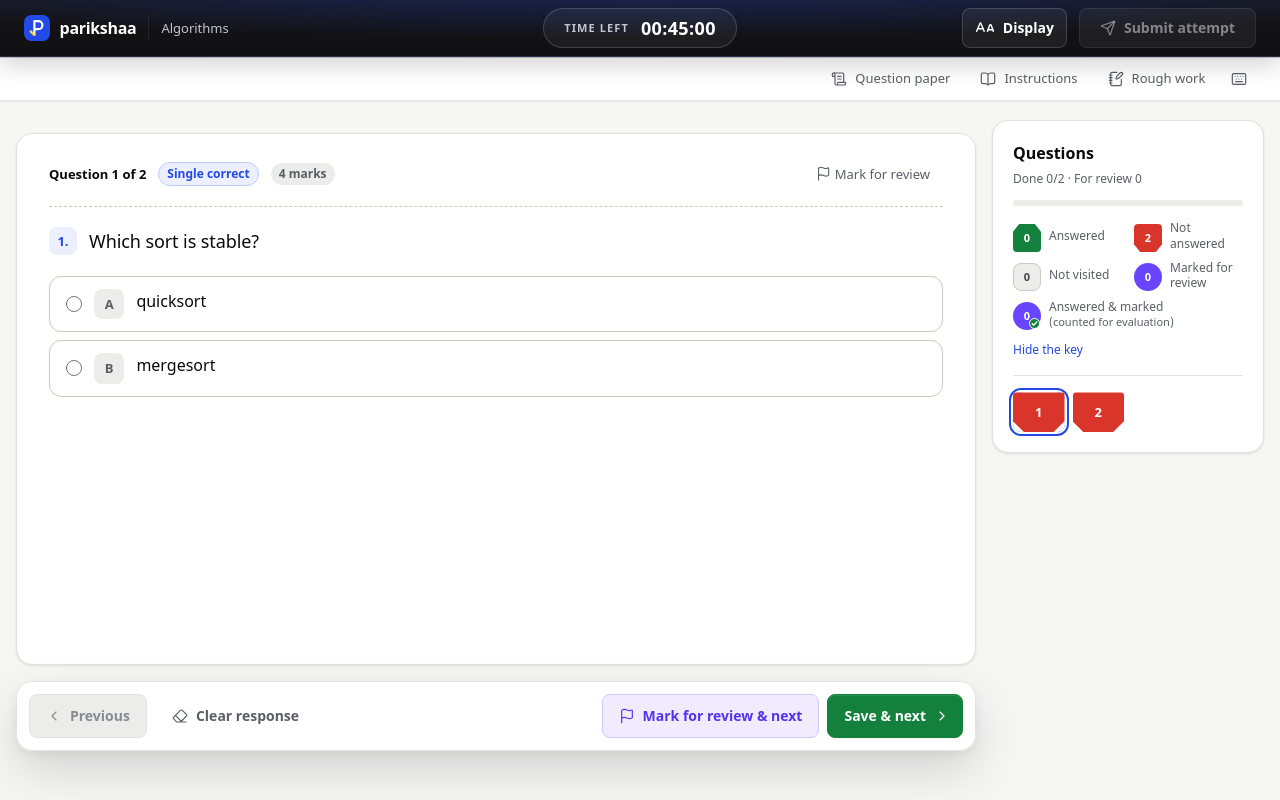
Test: App › shows the paper one question at a time, as a computer-based test does
Expected: the heading "Algorithms" is shown, left=161, top=20, right=229, bottom=36
Expected: the heading "1. Which sort is stable?" is shown, left=49, top=227, right=259, bottom=255
What coordinates should you click on to do the following:
click the button "Save & next"
I would click on:
 (895, 716)
Its box is left=827, top=694, right=963, bottom=738.
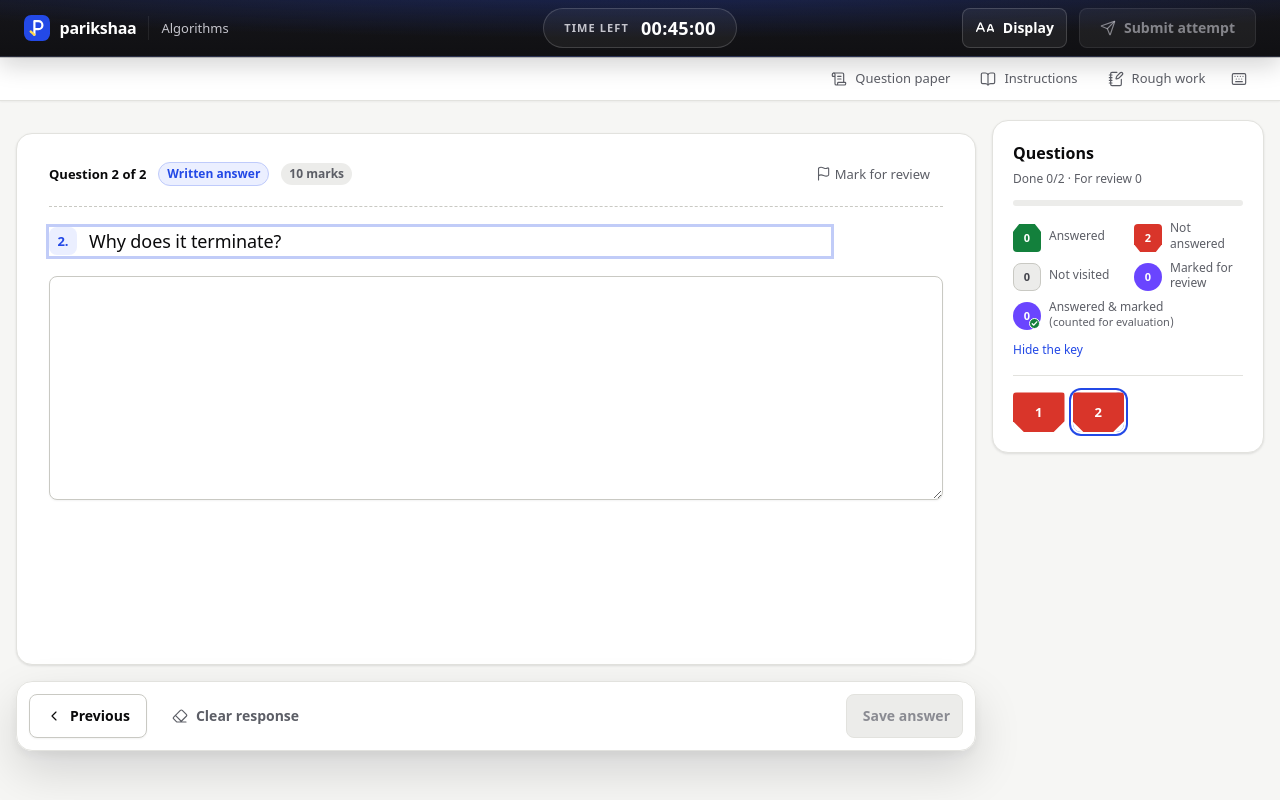
Expected: the heading "2. Why does it terminate?" is shown, left=49, top=227, right=832, bottom=256
What coordinates should you click on to do the following:
click the button "Previous"
I would click on:
 (88, 716)
Its box is left=29, top=694, right=147, bottom=738.
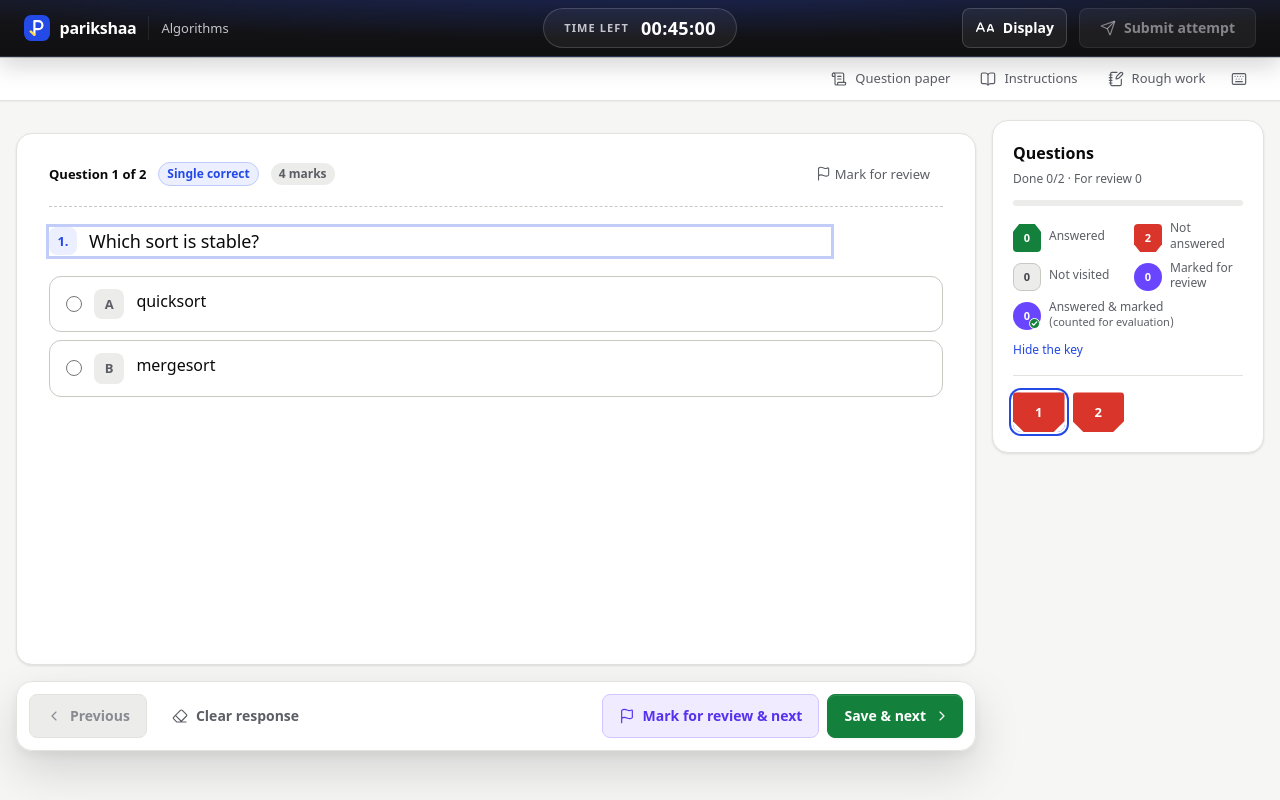
Expected: the heading "1. Which sort is stable?" is shown, left=49, top=227, right=832, bottom=256
